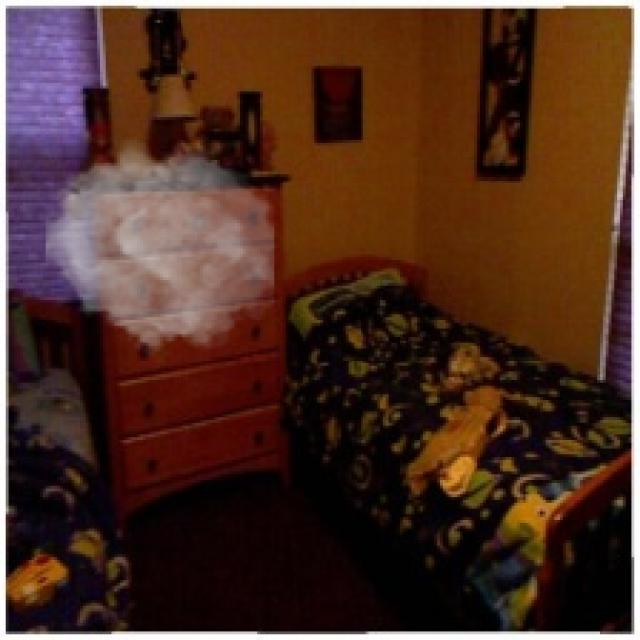smoke: (46, 137, 274, 357)
